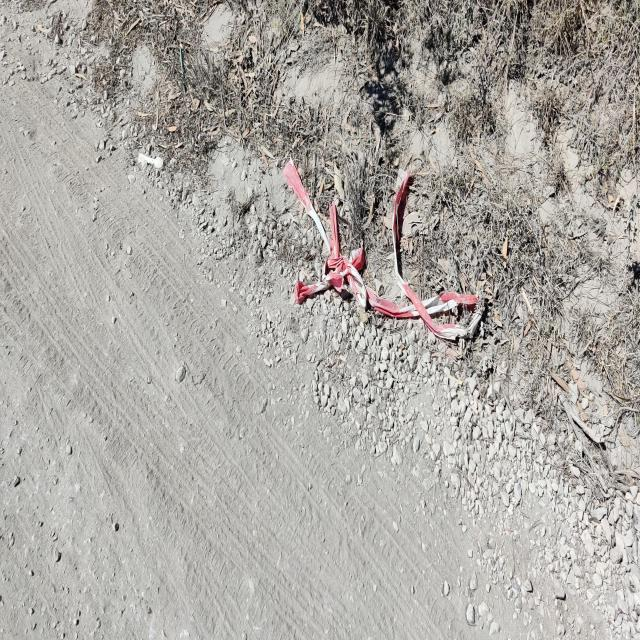litter: (261, 92, 537, 427)
